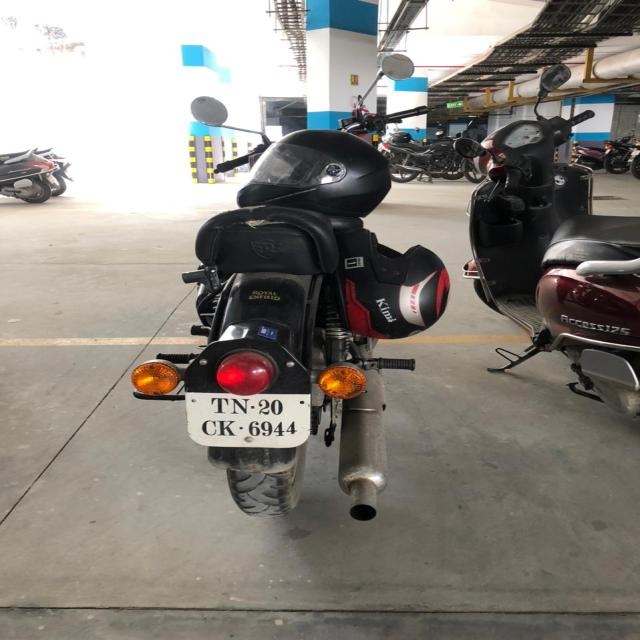license_plate: (184, 391, 311, 449)
